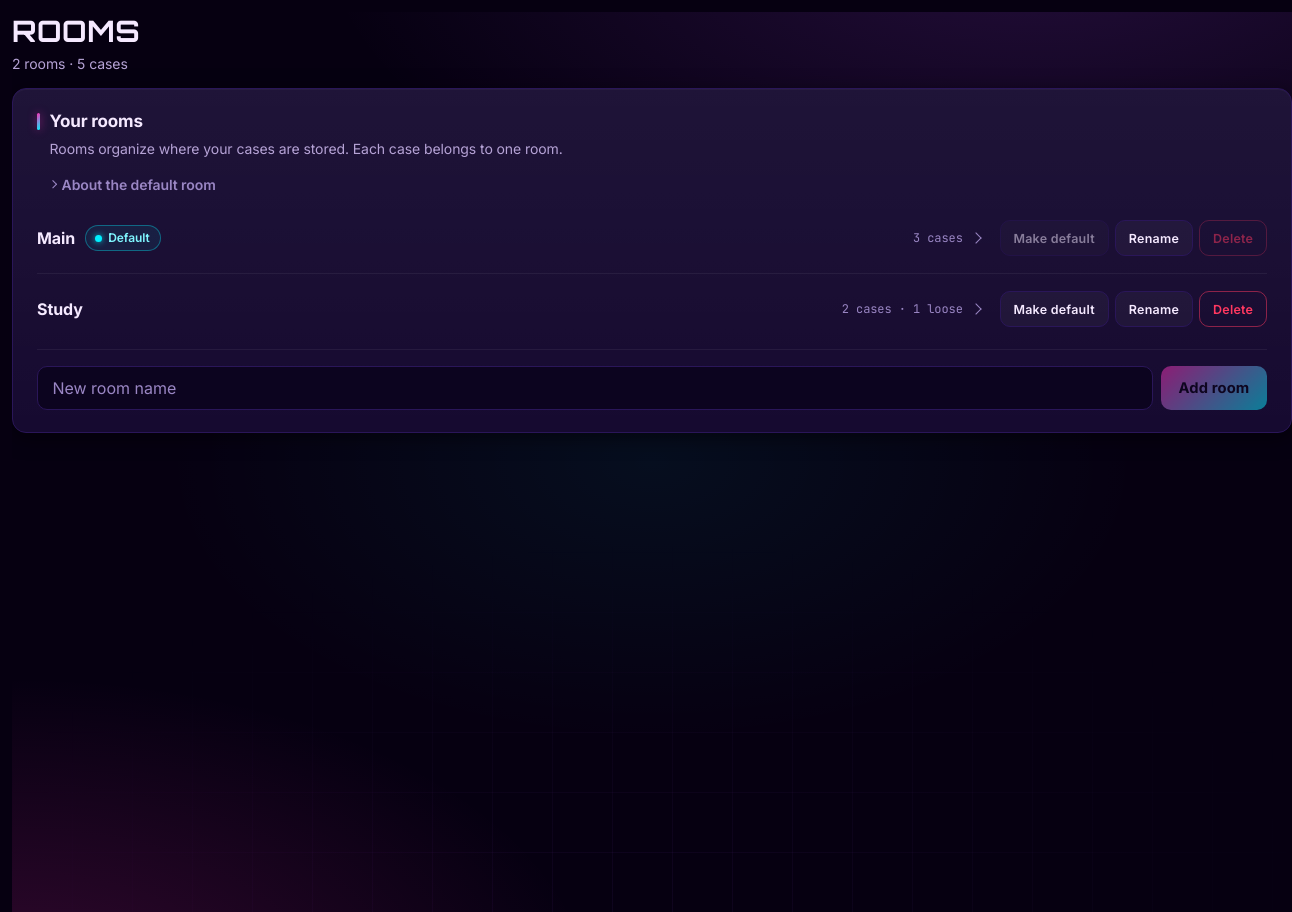
it: RoomsPage › a refused rename does not take focus from another field
Click the button named "Rename Study".
click(1154, 309)  # box top-left (1115, 291), bottom-right (1193, 327)
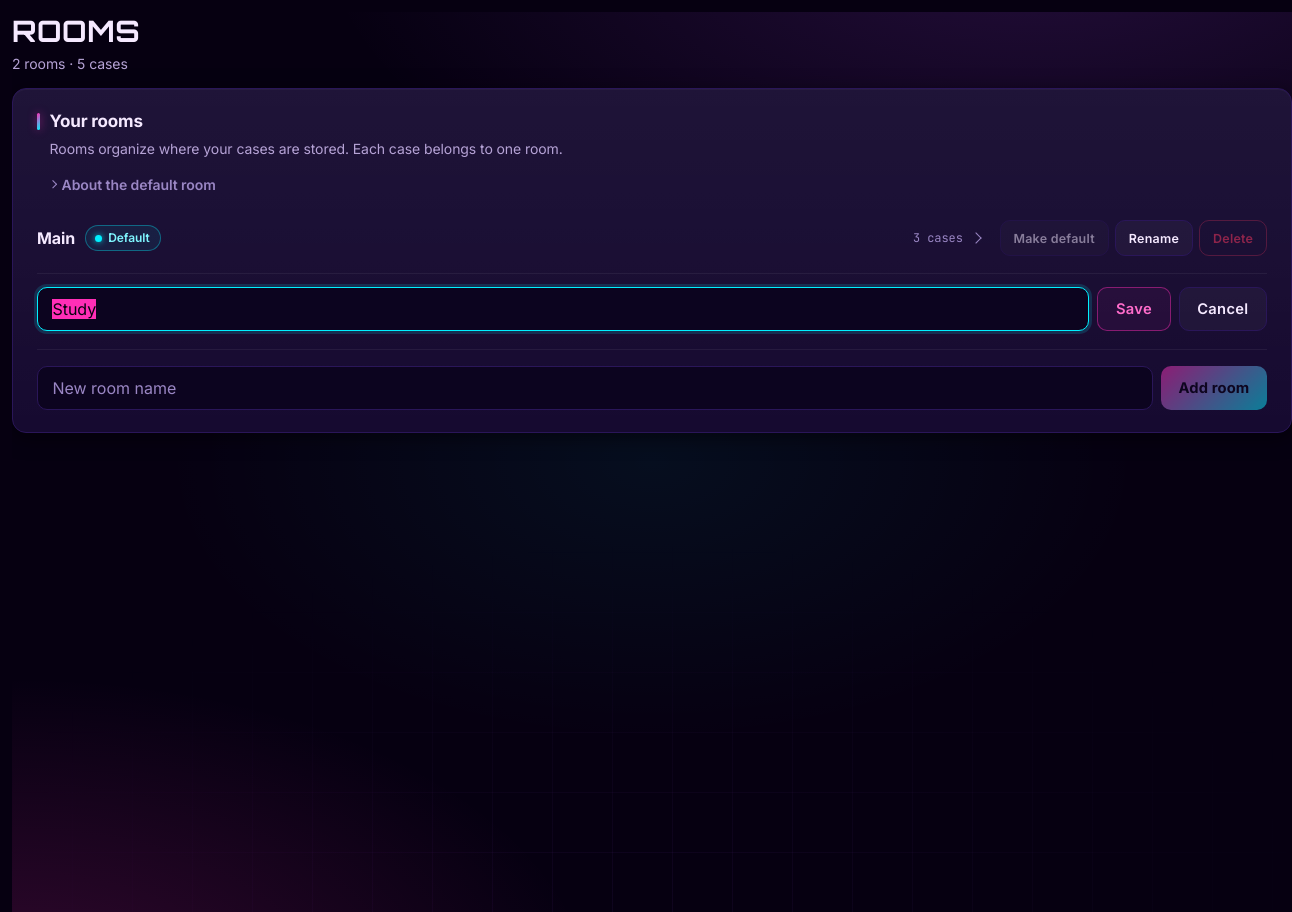
Type keys "Den{Enter}"
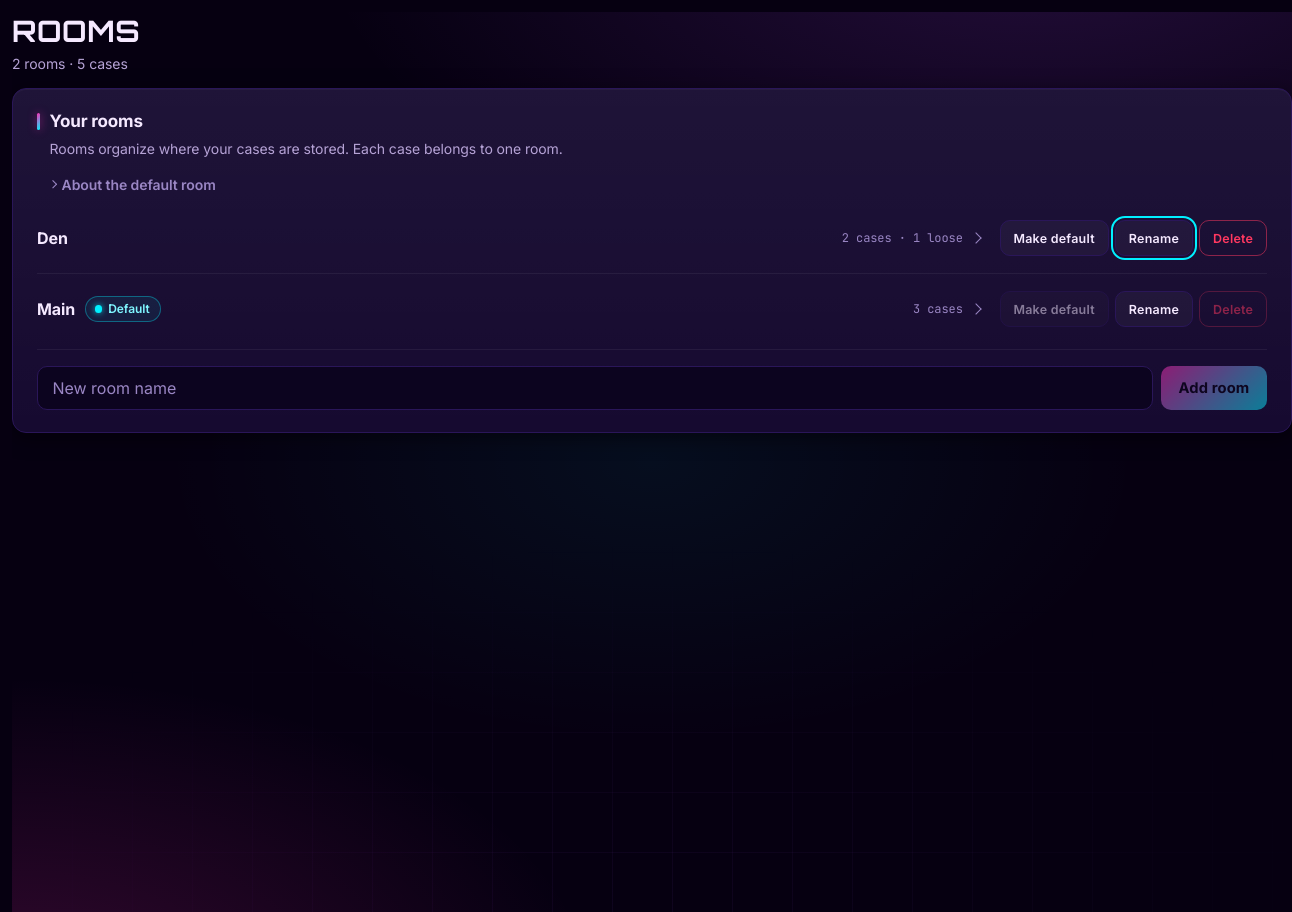
The person has moved on to adding a room while the rename is in flight.
Click the field named "Add room".
click(595, 388)  # box top-left (37, 366), bottom-right (1153, 410)
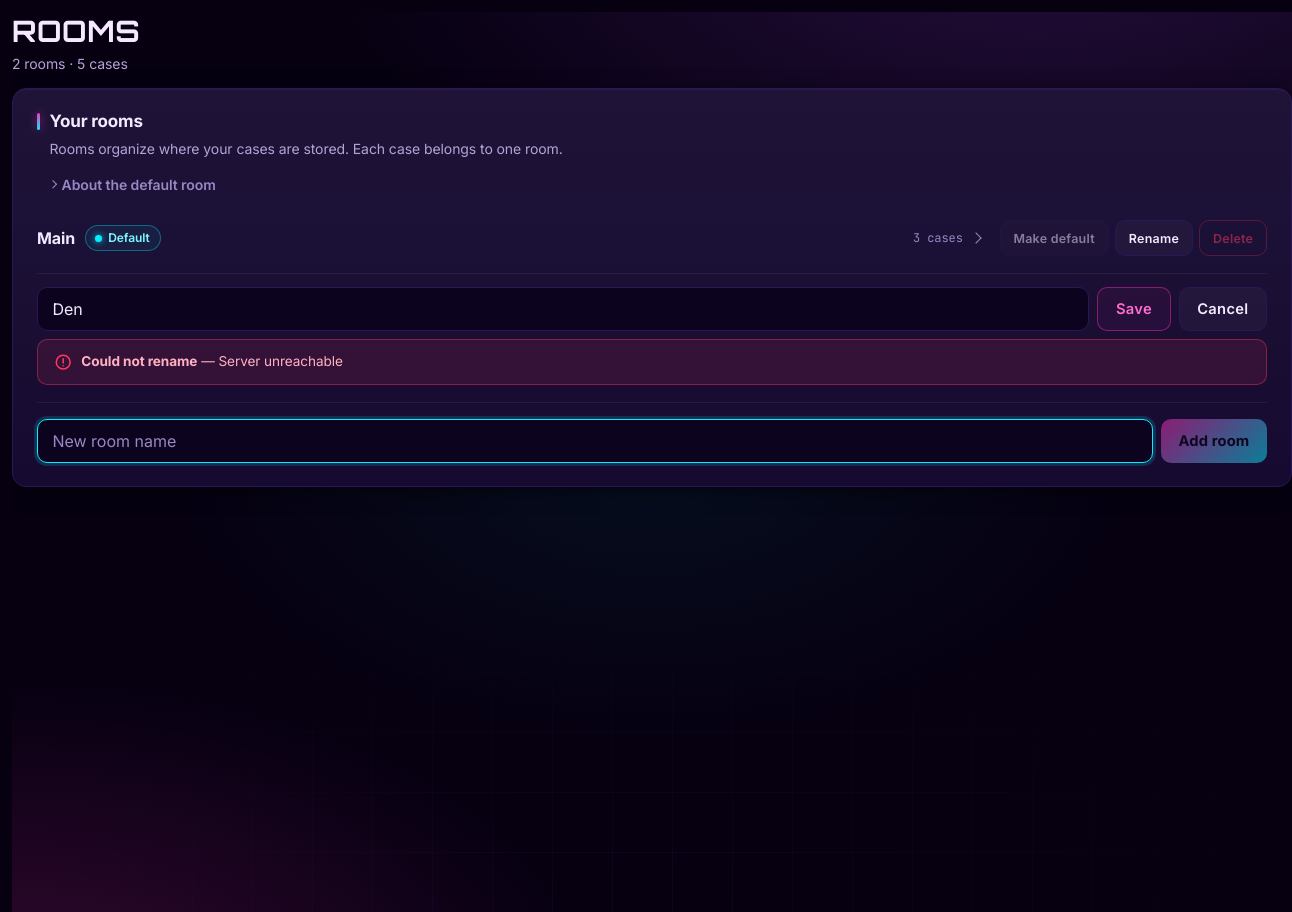
Result: the field named "New name for Study" holds "Den" at top-left (37, 287), bottom-right (1089, 331)
